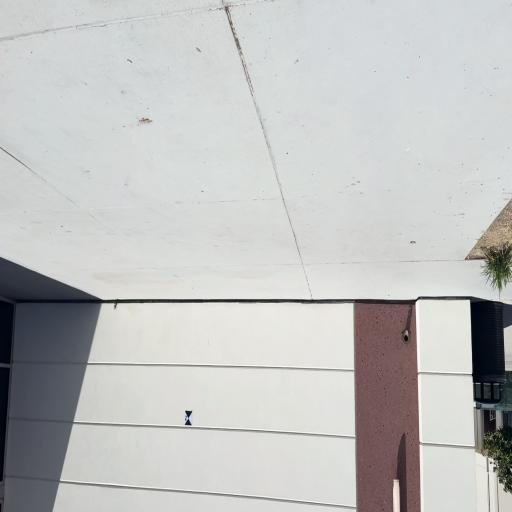target7: (184, 410, 192, 425)
